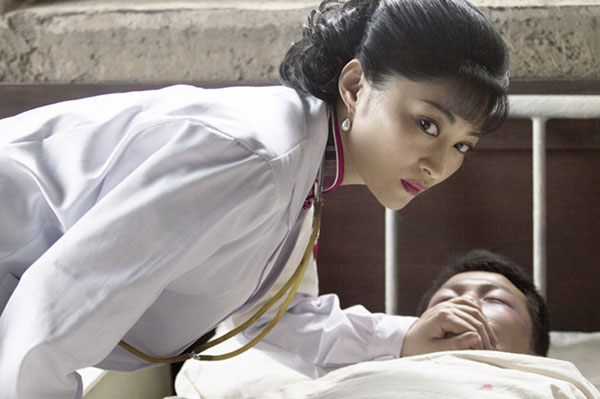face: (355, 70, 494, 211), (417, 270, 529, 359)
